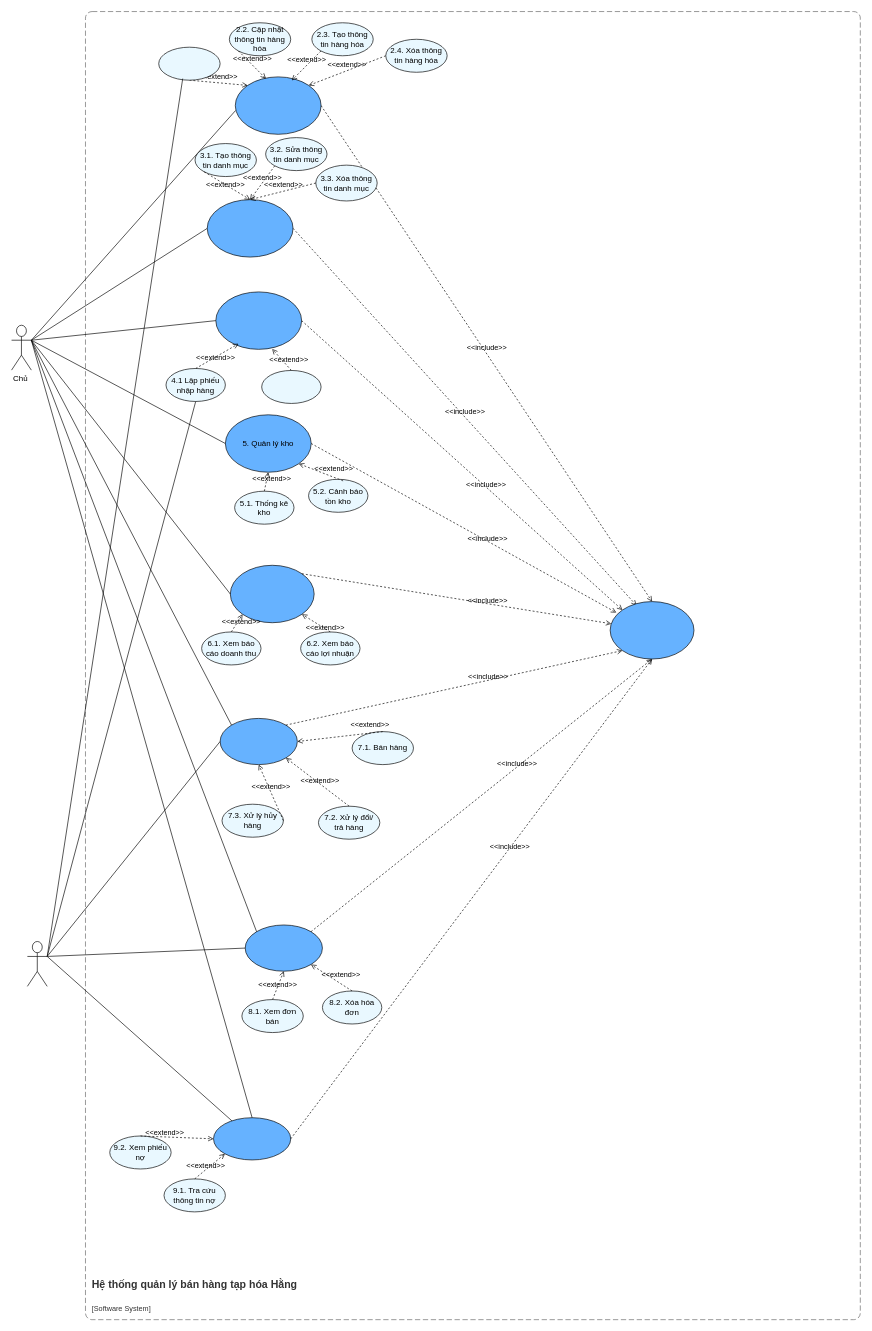
The diagram is 872 pixels wide and 1331 high, and some of its shapes have lost their labels. The shapes that lost their labels are listed below. From the top down, each one's box as (x1, y1, x2, y2) in pixels, then its label:
(158, 47, 220, 80): 2.1. Xem thông tin hàng hóa
(235, 76, 321, 134): 2. Quản lý thông tin hàng hóa
(207, 199, 293, 257): 3. Quản lý danh mục hàng hóa
(215, 291, 302, 349): 4. Quản lý nhập hàng
(261, 370, 321, 403): 4.2 Duyệt phiếu nhập hàng
(230, 565, 314, 623): 6. Xem báo cáo
(610, 601, 694, 659): 1.Đăng nhập
(219, 718, 297, 765): 7. Quản lí bán hàng
(27, 941, 47, 986): NHân viên
(245, 924, 322, 971): 8. Quản lý đơn bán
(213, 1117, 291, 1160): 9. Quản lý nợ
